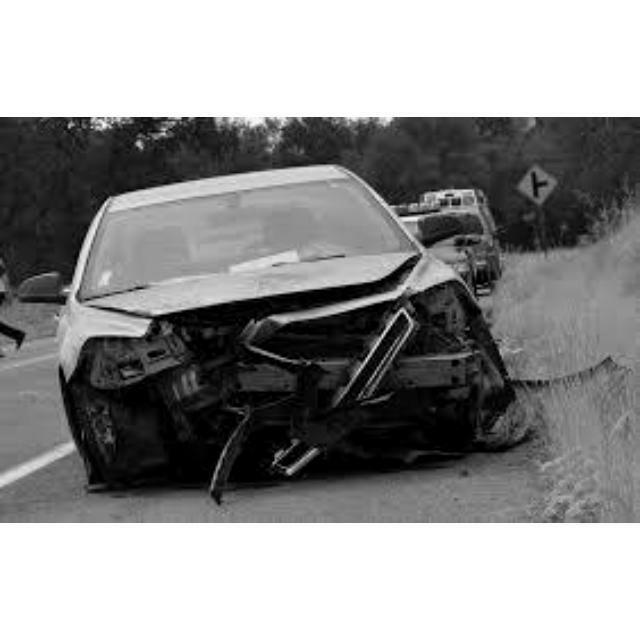bonnet-dent: (105, 263, 406, 308)
front-bumper-dent: (121, 326, 429, 448)
